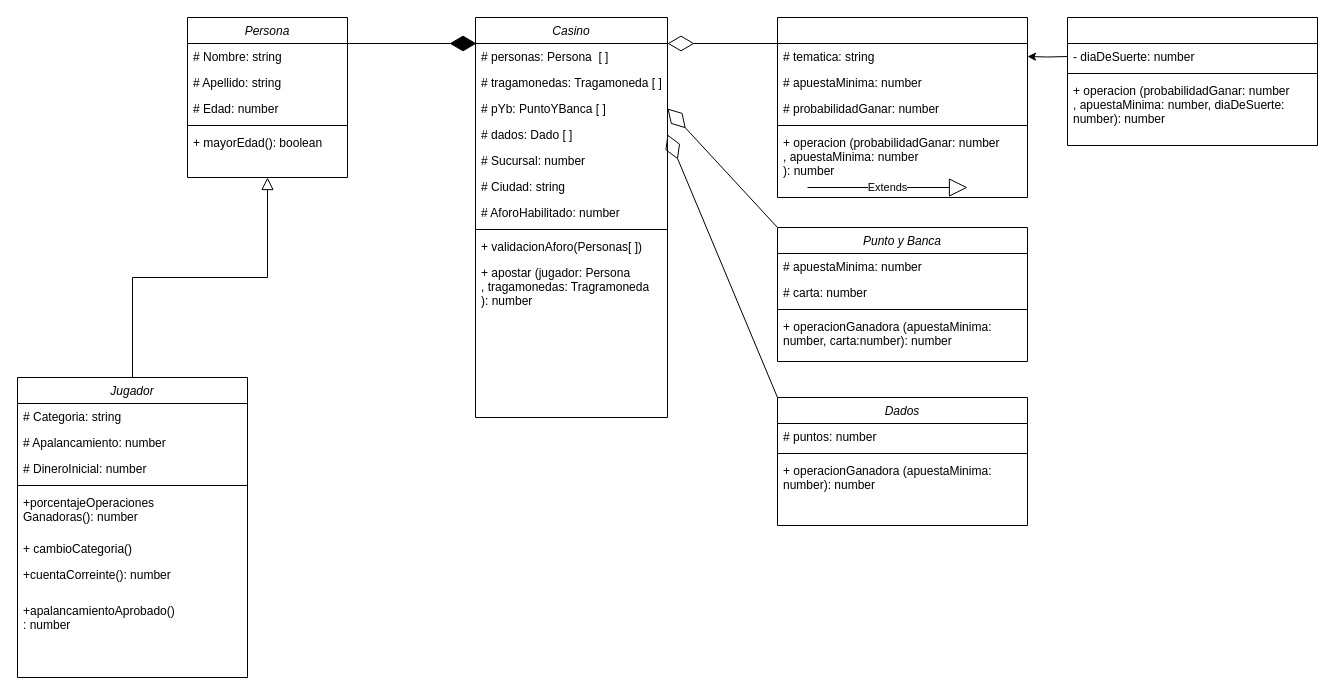
Some shapes in this 1335 by 695 pixel diagram are drawn without their labels. Each missing label, with the box of its shape:
Tragamoneda: (776, 16, 1028, 198)
TragamonedaPoderoso: (1066, 16, 1318, 146)
